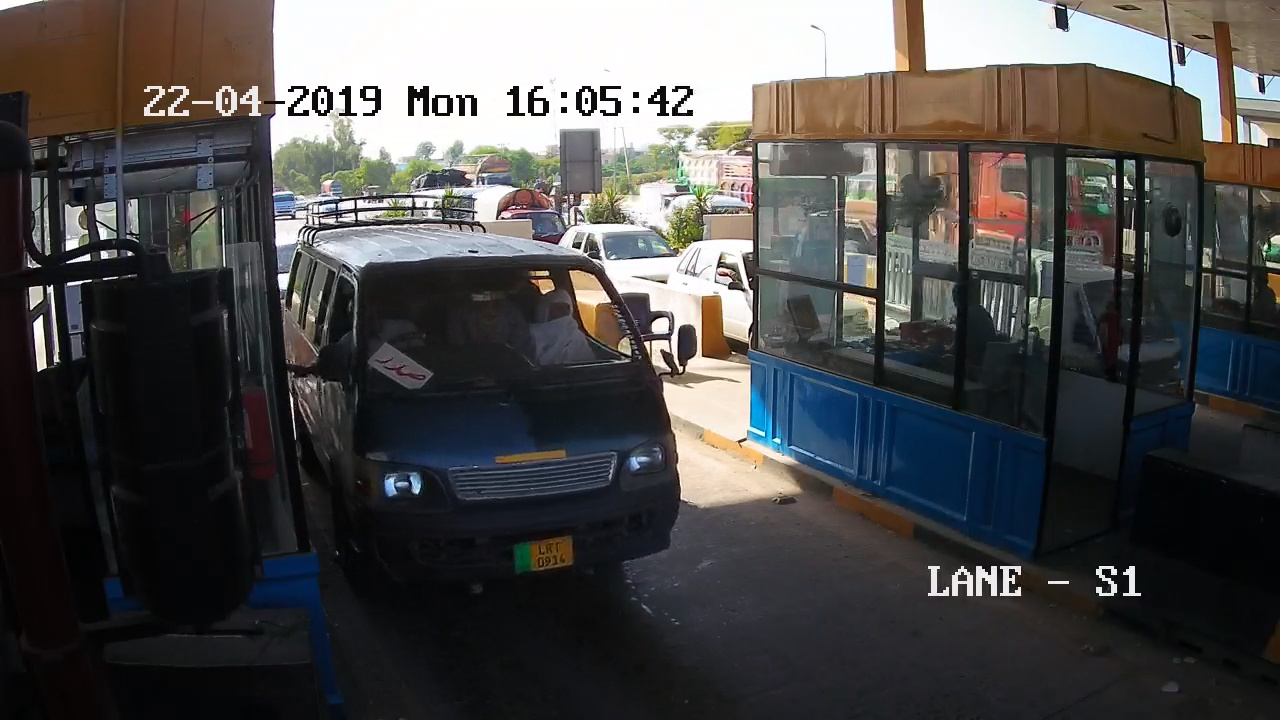Number Plate (Car): (512, 537, 574, 571)
